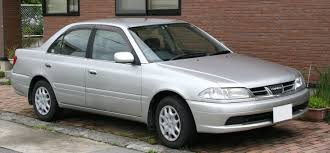Toyota: (21, 21, 307, 125)
